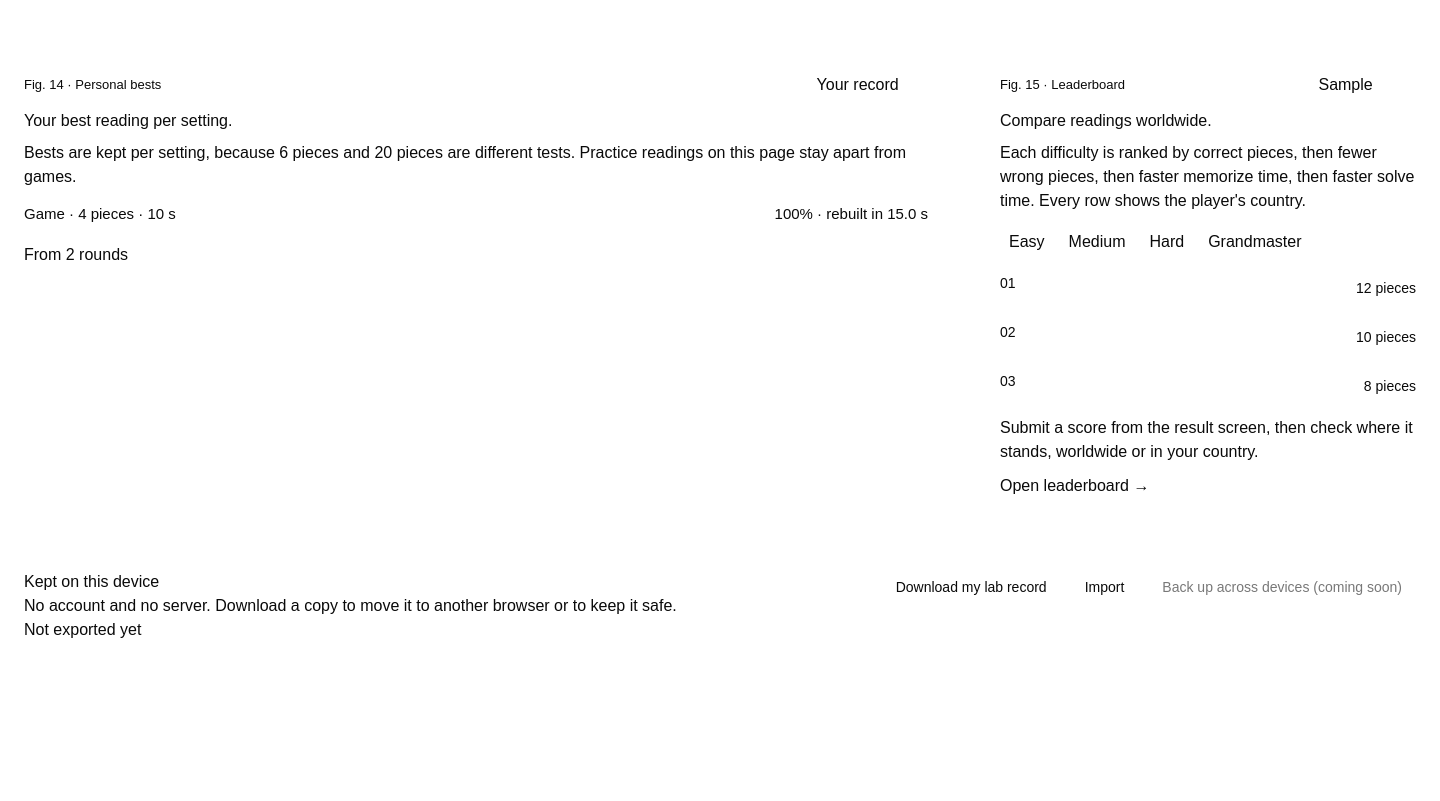
Test: LabRecordSection › counts interest in cross-device backup without pretending it exists
This screenshot has width=1440, height=801.
(page scrolled)
Click the button "Back up across devices (coming soon)" at (1282,588), box [1148,570,1416,606]
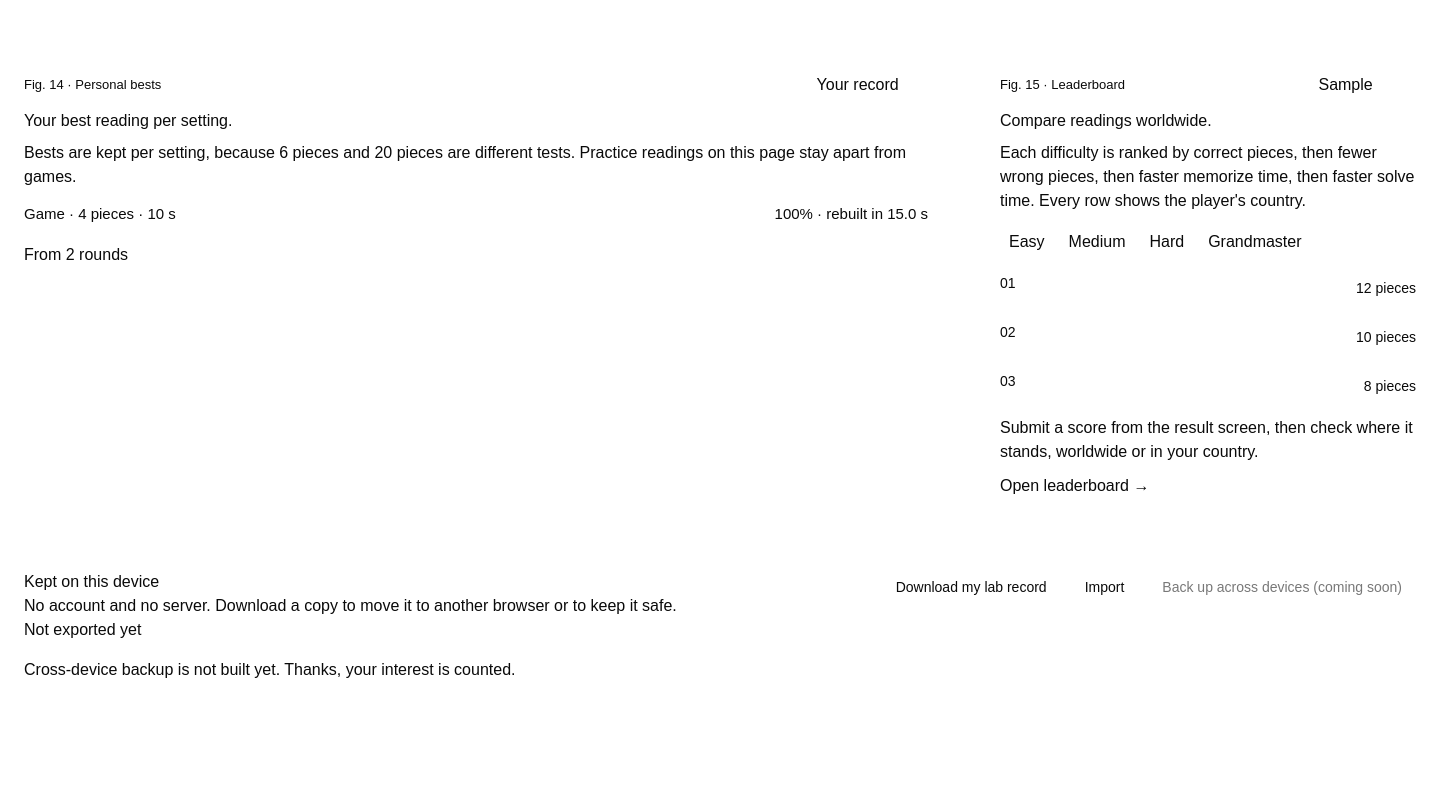
Now the text "Cross-device backup is not built yet. Thanks, your interest is counted." is shown, box [24,661,516,678]
